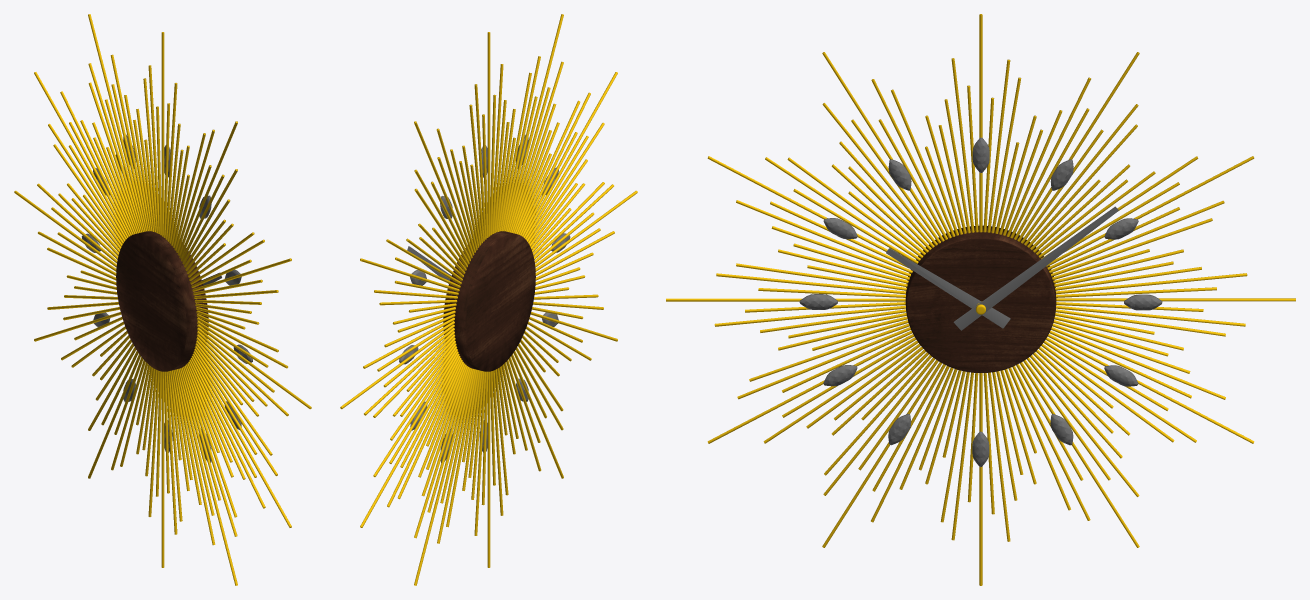
File: WallClock.fbx
3 renders of one model, left to right at view 1: azimuth 30°, elevation 25°; view 2: azimuth 150°, elevation 25°; view 3: azimuth 270°, elevation 25°, orthographic. The views are drawn at different scales.
Parts seen in each view (by area): view 1: WallClock; view 2: WallClock; view 3: WallClock.
Part boxes in pixels (x1,y1,x2,y2): WallClock: (14, 14, 311, 585); WallClock: (340, 14, 637, 585); WallClock: (666, 14, 1295, 585).
Bounding box in the file's own units: 0.0436 × 0.7011 × 0.7011.
